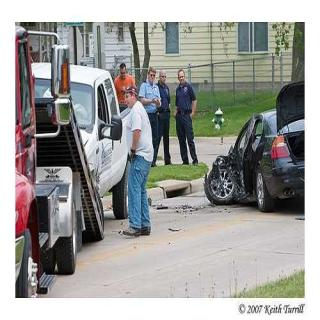Towing_truck: (14, 26, 132, 296)
